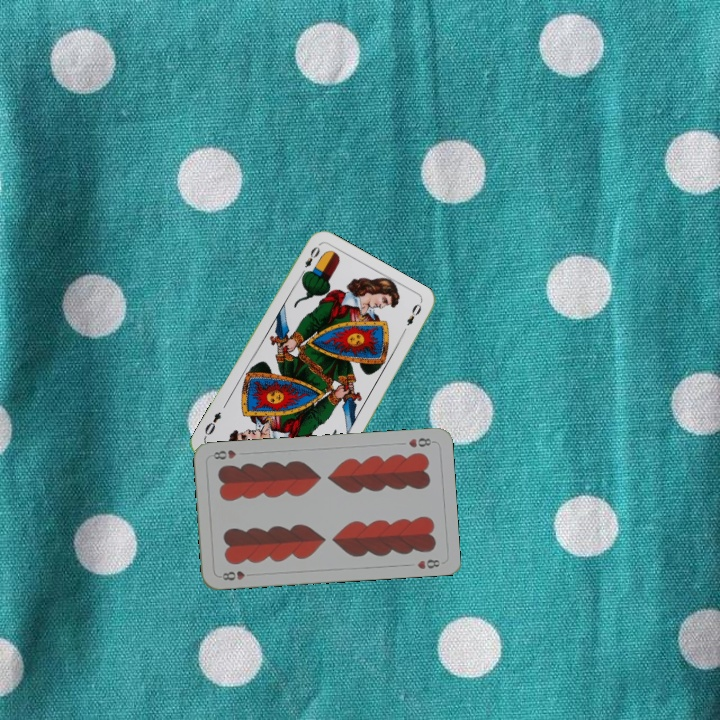EO: (296, 242, 323, 279)
H8: (216, 567, 256, 583), (404, 434, 436, 450)
